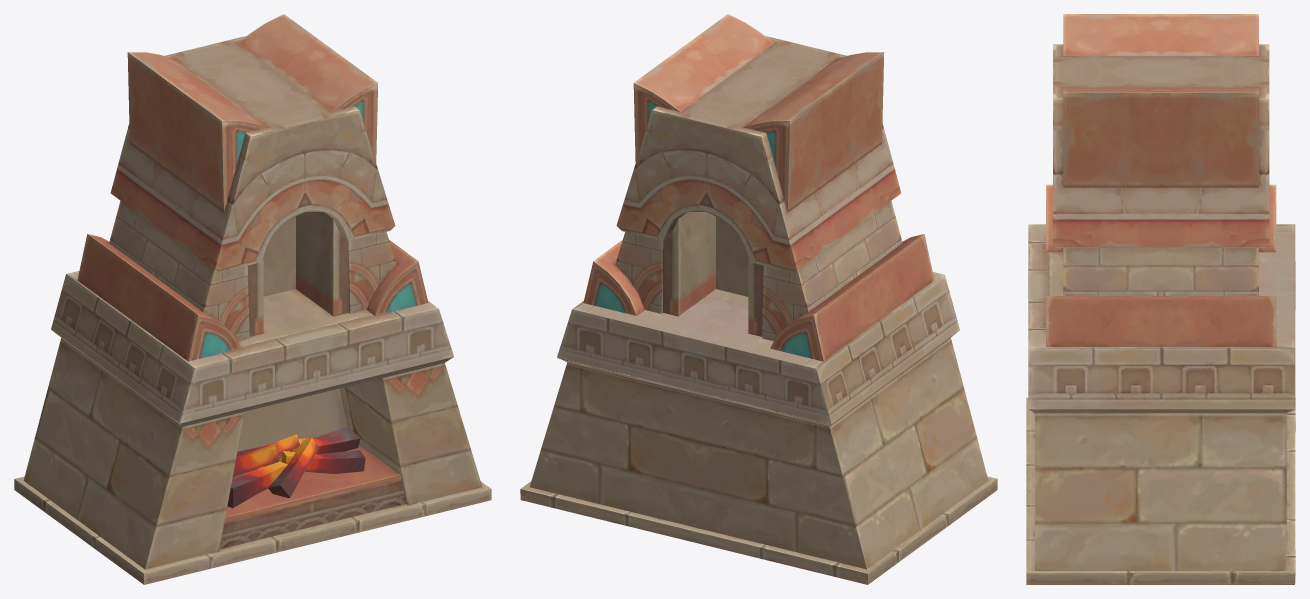
File: Homeworld_Interior_Xm_Thing_Build_Stove_01_Vo.fbx
3 views of the same model, side by side, from view 1: azimuth 30°, elevation 25°; view 2: azimuth 150°, elevation 25°; view 3: azimuth 270°, elevation 25° (orthographic). The views are drawn at different scales.
Visible parts, largest first — view 1: Indoor_Xm_Build_Czj_Stove_01_Vo, Indoor_Xm_Prop_Czj_Decoration_32_Vo; view 2: Indoor_Xm_Build_Czj_Stove_01_Vo; view 3: Indoor_Xm_Build_Czj_Stove_01_Vo.
Boxes of the visible parts, box(x1,y1,x2,y2) form: Indoor_Xm_Build_Czj_Stove_01_Vo: box(14, 14, 491, 584); Indoor_Xm_Prop_Czj_Decoration_32_Vo: box(227, 426, 365, 507); Indoor_Xm_Build_Czj_Stove_01_Vo: box(520, 14, 997, 584); Indoor_Xm_Build_Czj_Stove_01_Vo: box(1026, 14, 1295, 584).
Size of the model in its own units: 1.86 by 2.19 by 1.21.
